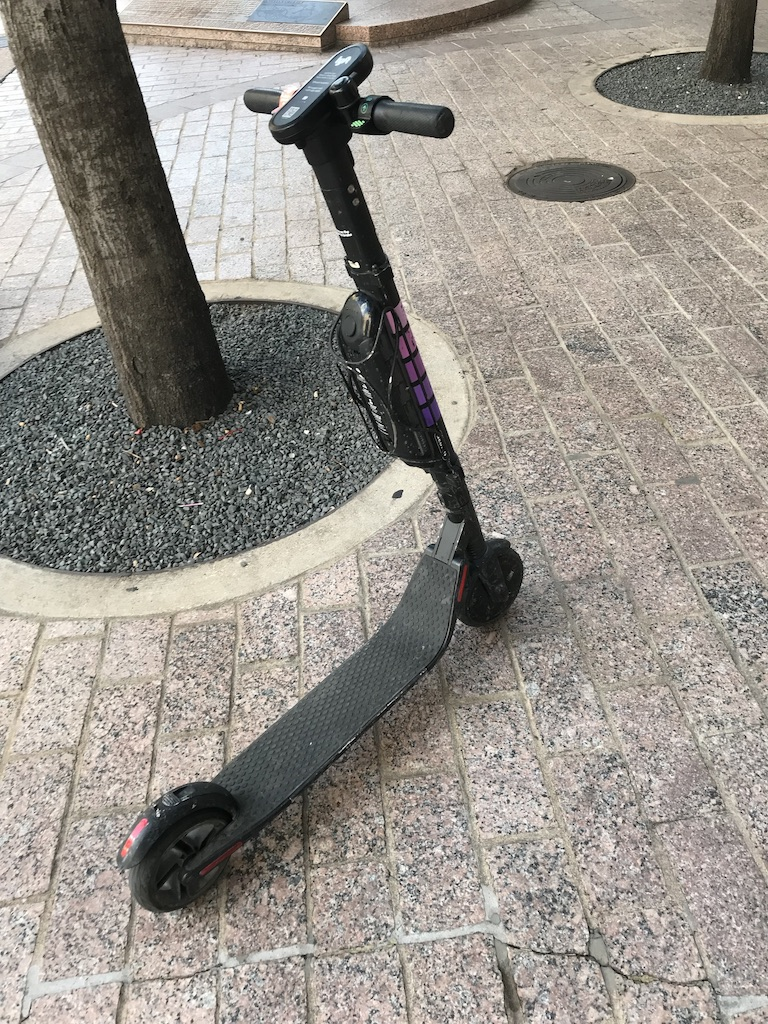scooter: (114, 45, 526, 914)
